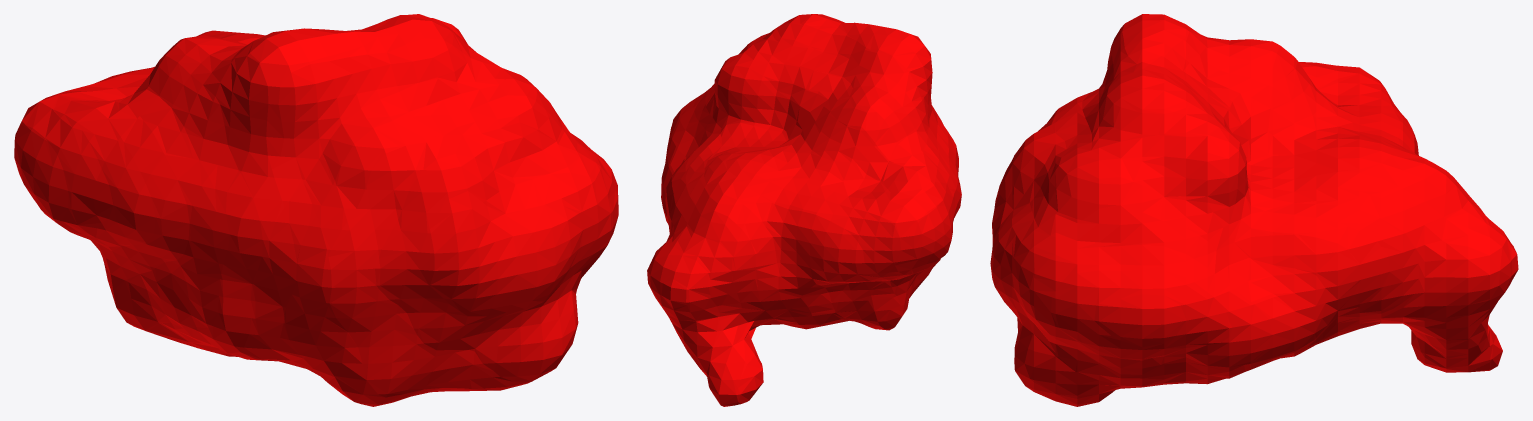
File: nrdF_coarse.dae
3 renders of one model, left to right at view 1: azimuth 30°, elevation 25°; view 2: azimuth 150°, elevation 25°; view 3: azimuth 270°, elevation 25°, orthographic. The views are drawn at different scales.
Visible parts, largest first — view 1: nrdF; view 2: nrdF; view 3: nrdF.
Boxes of the visible parts, bbox=[...] form: nrdF: bbox=[14, 14, 618, 406]; nrdF: bbox=[647, 14, 961, 406]; nrdF: bbox=[990, 14, 1518, 406].
Bounding box in the file's own units: 56.98 × 45.19 × 64.44.
